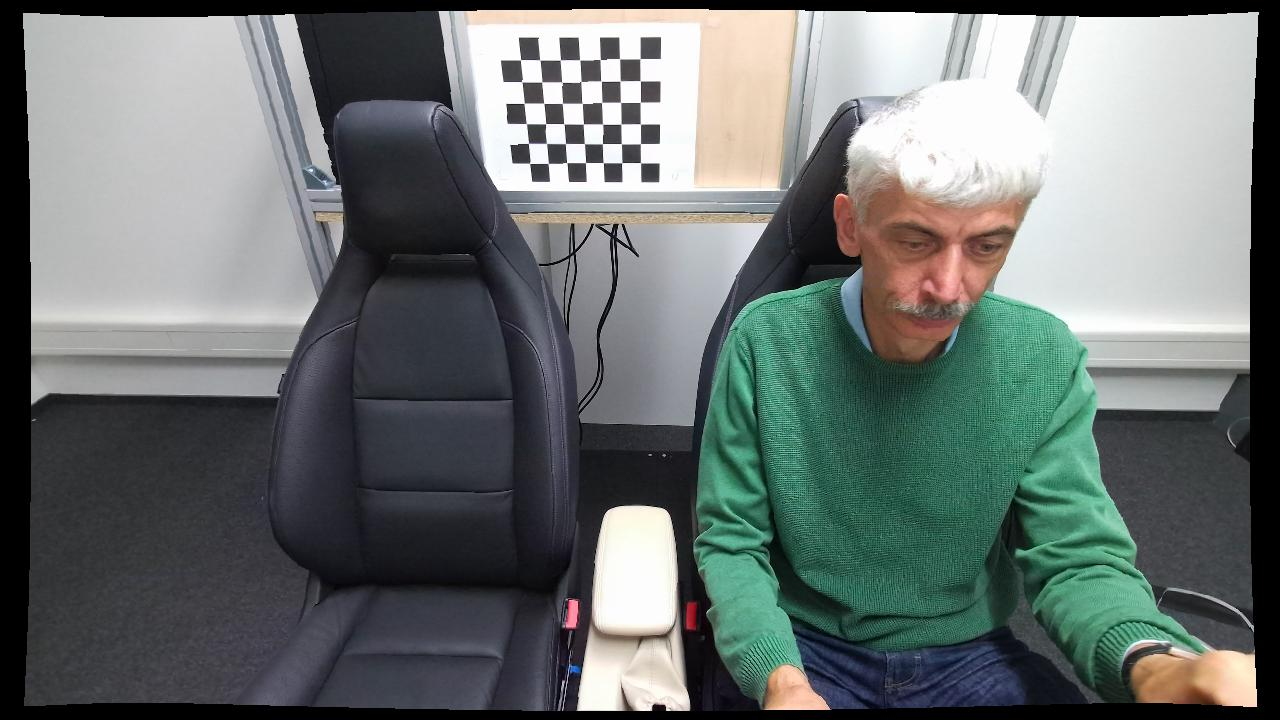SafeDriving: (695, 70, 1162, 709)
